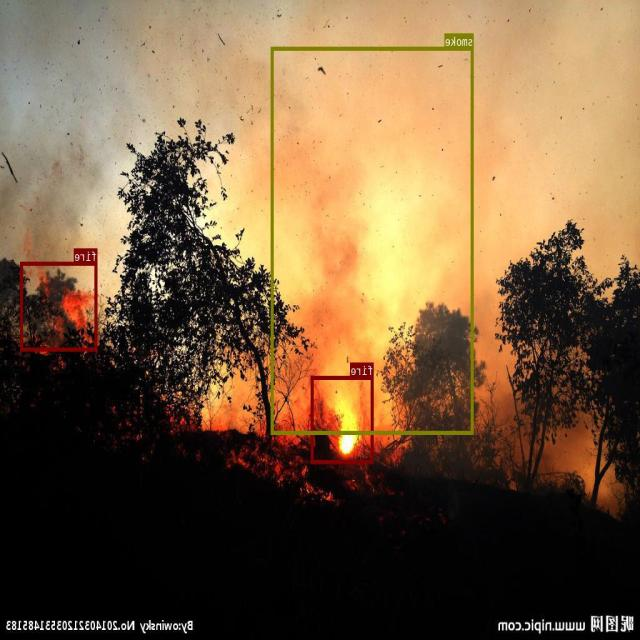fire: (21, 262, 98, 351), (311, 376, 374, 463)
smoke: (271, 46, 474, 434)
